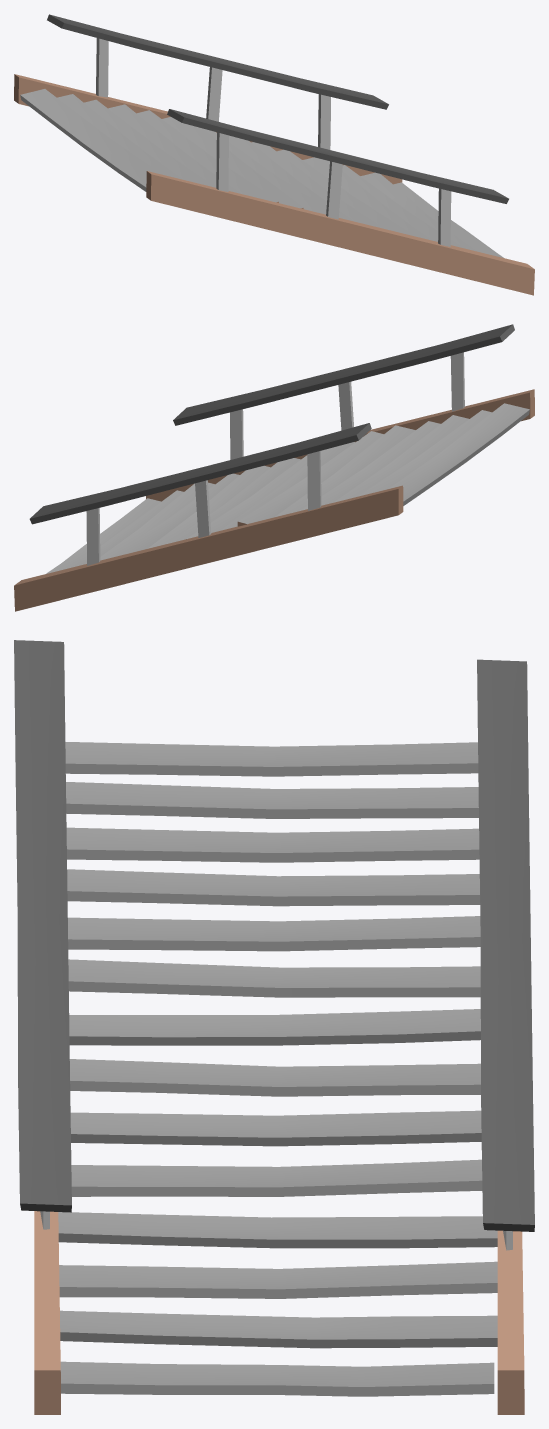
The model's file is bridge_stairs_01.fbx.
3 renders of one model, top to bottom at view 1: azimuth 30°, elevation 25°; view 2: azimuth 150°, elevation 25°; view 3: azimuth 270°, elevation 25°, orthographic. The views are drawn at different scales.
Parts seen in each view (by area): view 1: pCube149; view 2: pCube149; view 3: pCube149.
Boxes of the visible parts, x1,y1,x2,y2 form: pCube149: [14, 14, 534, 295]; pCube149: [14, 324, 534, 611]; pCube149: [14, 640, 534, 1414].
Bounding box in the file's own units: 601 × 402 × 403.
